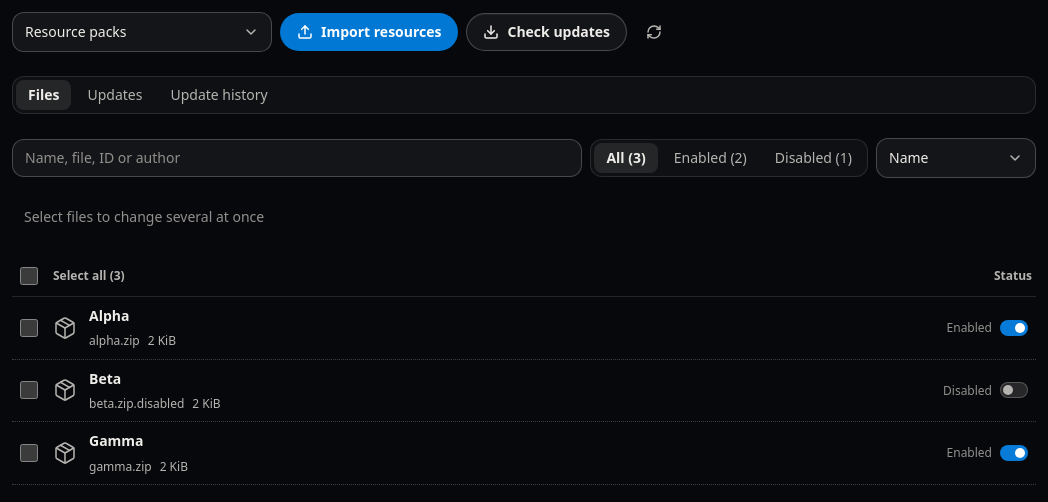
Test: instance content › hides the batch actions behind a hint until a file is selected
Expected: the message "Select files to change several at once" is shown, 24,207 -> 264,226
Click the checkbox named "Alpha" at (29, 328), box 20,319 -> 38,337
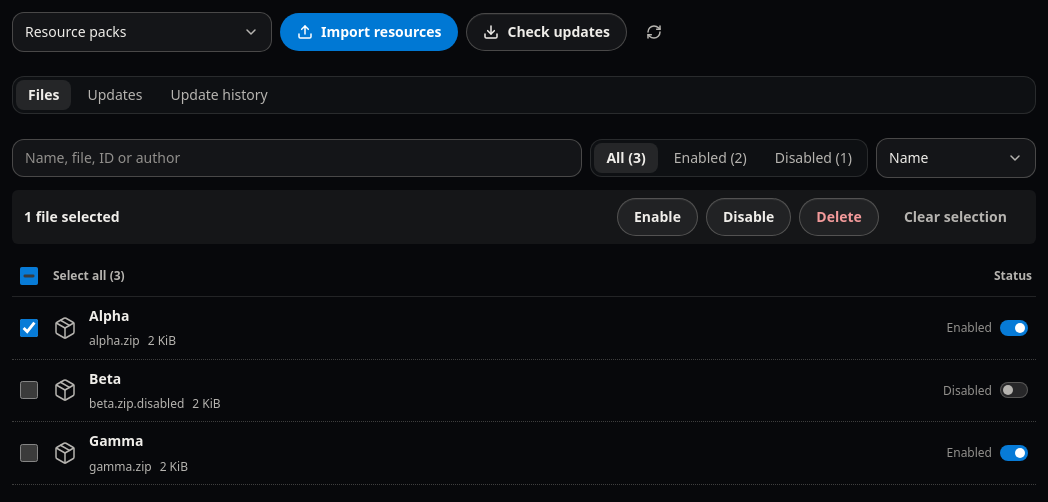
Expected: the message "1 file selected" is shown, 24,207 -> 120,226
